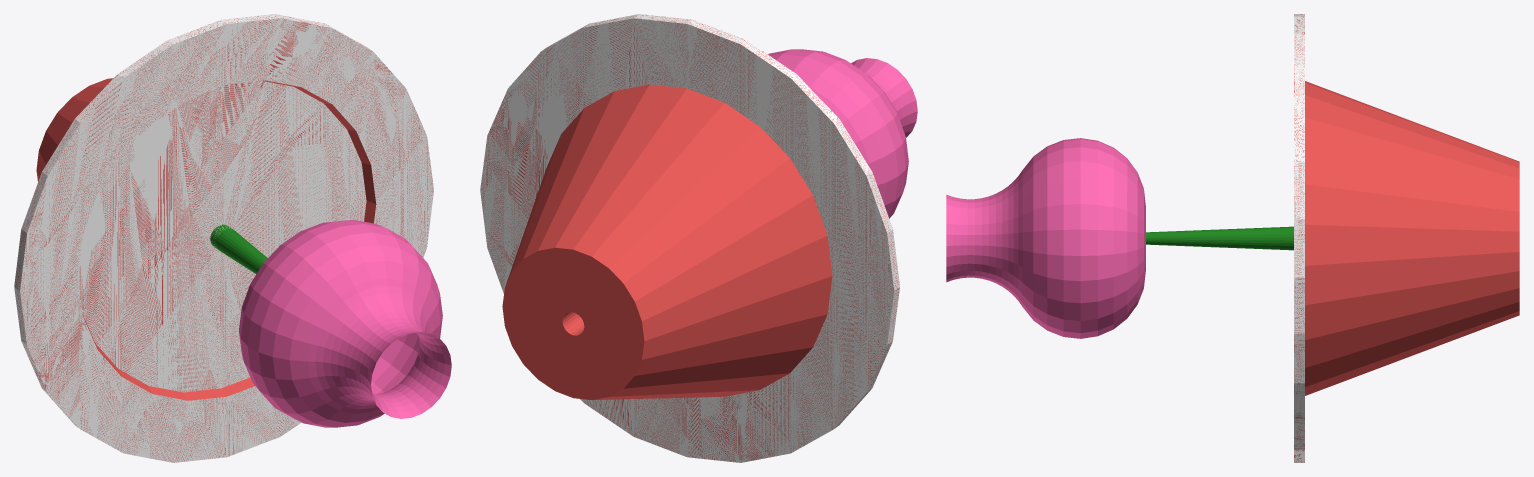
3 views of the same model, side by side, from view 1: azimuth 30°, elevation 25°; view 2: azimuth 150°, elevation 25°; view 3: azimuth 270°, elevation 25° (orthographic). The views are drawn at different scales.
Visible parts, largest first — view 1: rosado pink flower rose; view 2: rosado pink flower rose; view 3: rosado pink flower rose.
Boxes of the visible parts, x1,y1,x2,y2 form: rosado pink flower rose: (14, 14, 451, 462); rosado pink flower rose: (480, 14, 917, 462); rosado pink flower rose: (946, 14, 1519, 462).
Bounding box in the file's own units: 123 × 123 × 156.
